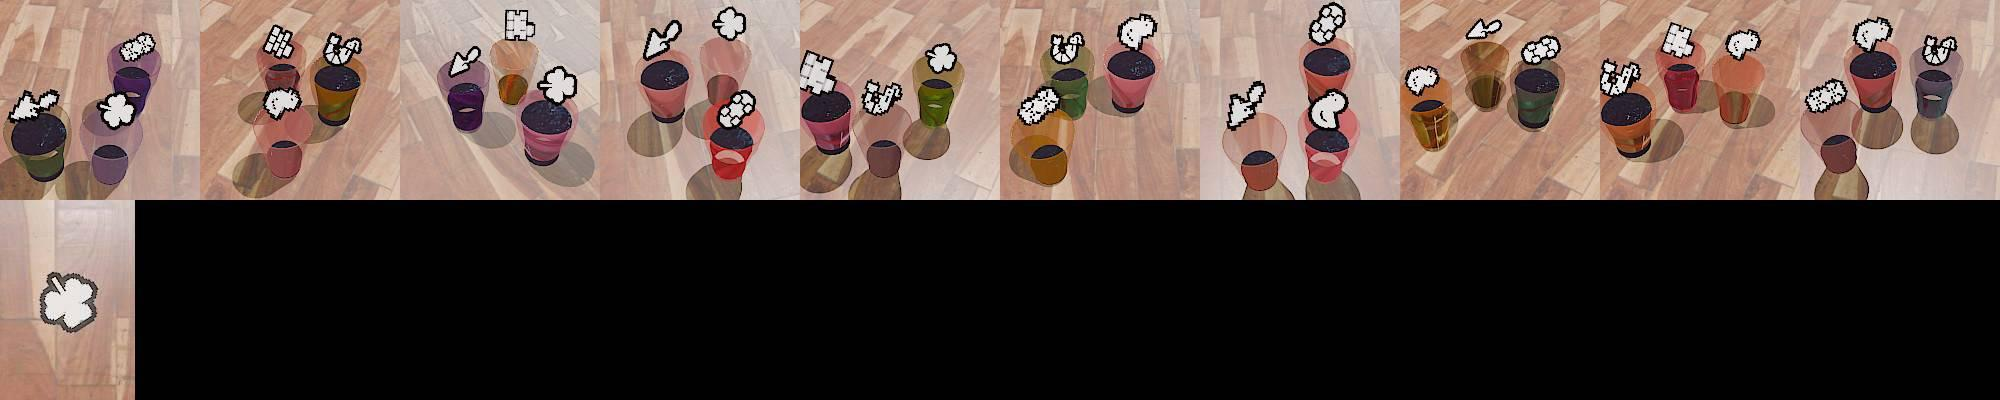icon: (37, 270, 99, 332), (6, 88, 62, 125), (1226, 82, 1267, 130), (1599, 57, 1643, 99), (798, 50, 839, 94), (714, 88, 758, 129), (1017, 85, 1061, 125), (94, 88, 139, 127), (1802, 76, 1848, 115), (1306, 88, 1347, 130), (536, 64, 579, 103), (642, 20, 682, 61), (860, 78, 903, 116), (1309, 3, 1346, 46), (1116, 14, 1157, 52), (1851, 17, 1893, 52), (323, 31, 364, 66), (1661, 20, 1695, 60), (261, 87, 301, 120), (1520, 34, 1562, 65), (712, 6, 747, 42), (261, 23, 296, 60), (1047, 31, 1084, 65), (1724, 28, 1761, 61), (1921, 34, 1958, 66), (923, 42, 958, 74), (1404, 64, 1440, 94), (448, 46, 482, 76), (120, 33, 157, 61), (504, 9, 534, 42), (1466, 18, 1503, 39)
